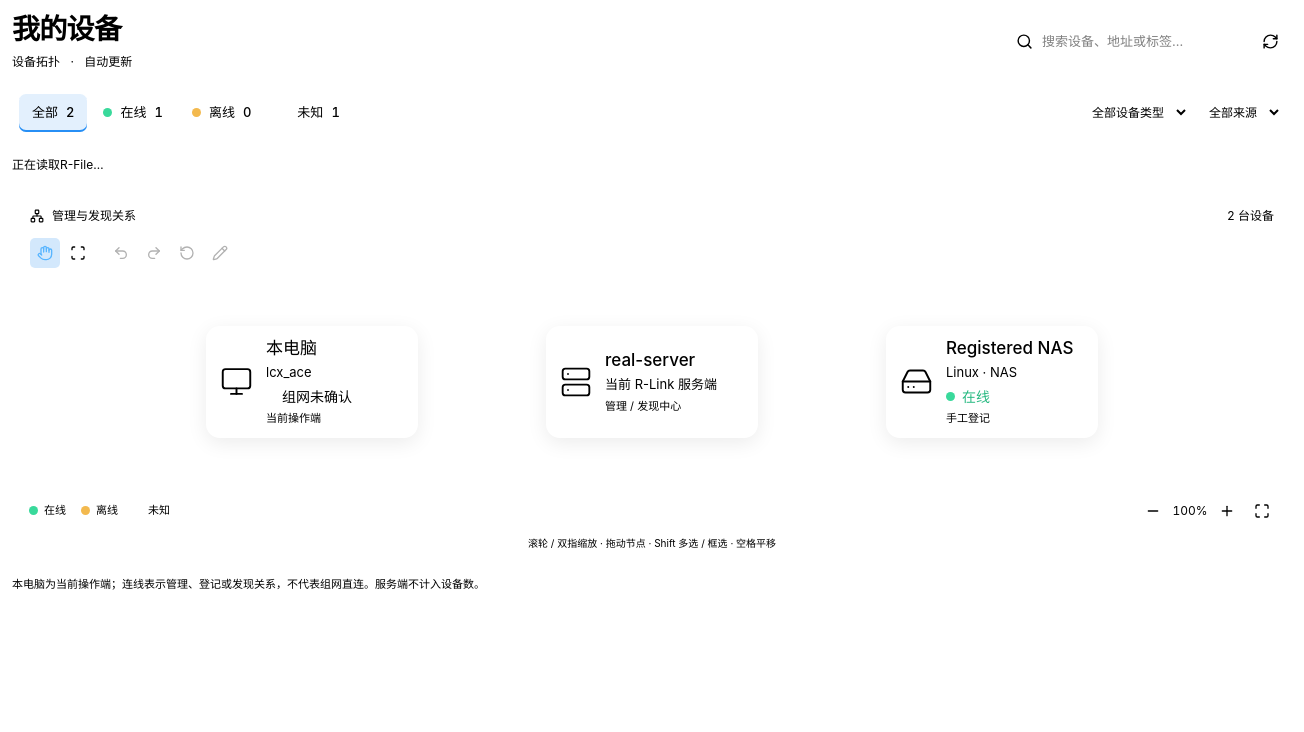
it: keeps loaded devices usable while another source is still loading
This screenshot has width=1304, height=732.
Click the button with aria-label "查看设备：Registered NAS" at (992, 382), box [886,326,1098,438]
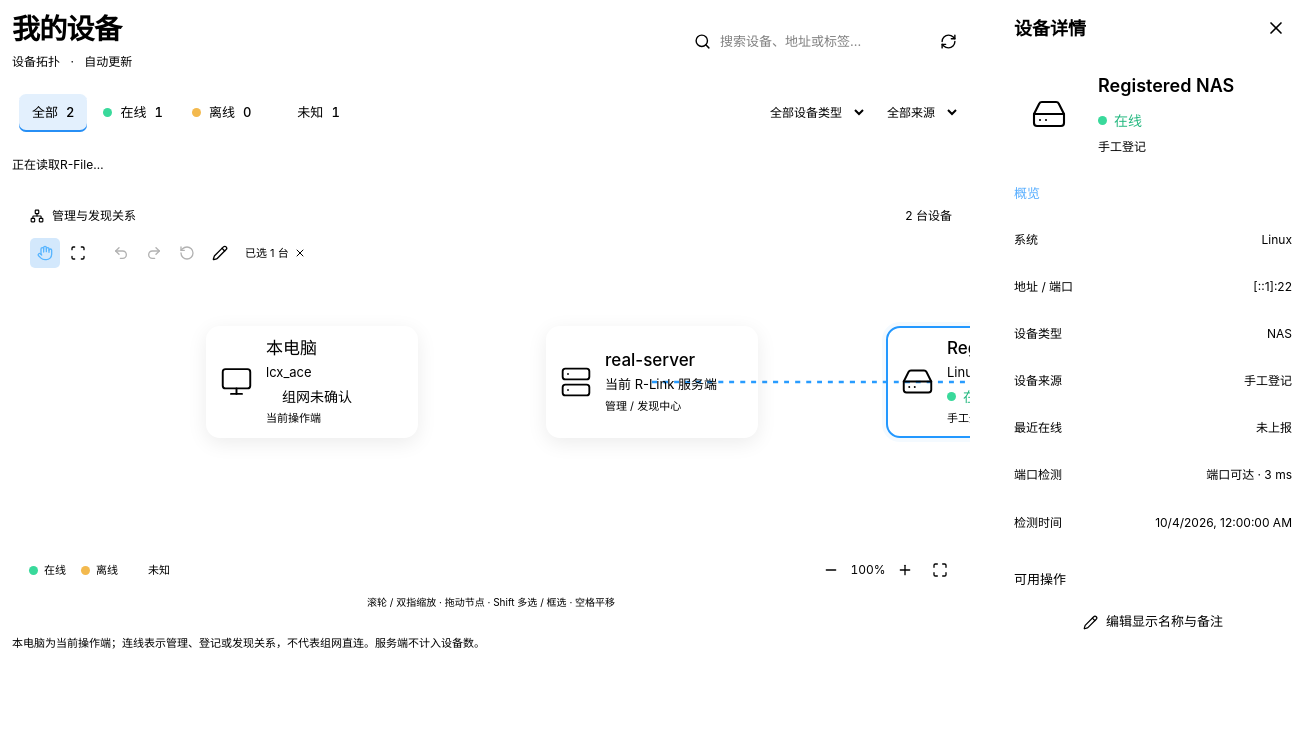
Check: the element "设备详情" is shown, box [992,12,1292,652]
